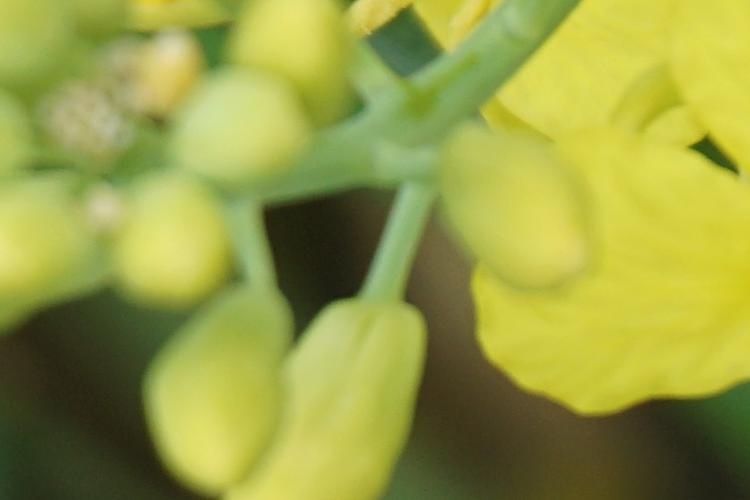bud: (259, 280, 426, 497), (142, 46, 315, 192), (431, 127, 585, 282), (155, 285, 282, 472), (96, 158, 220, 308), (237, 12, 359, 143)
yellow: (458, 10, 750, 412)
